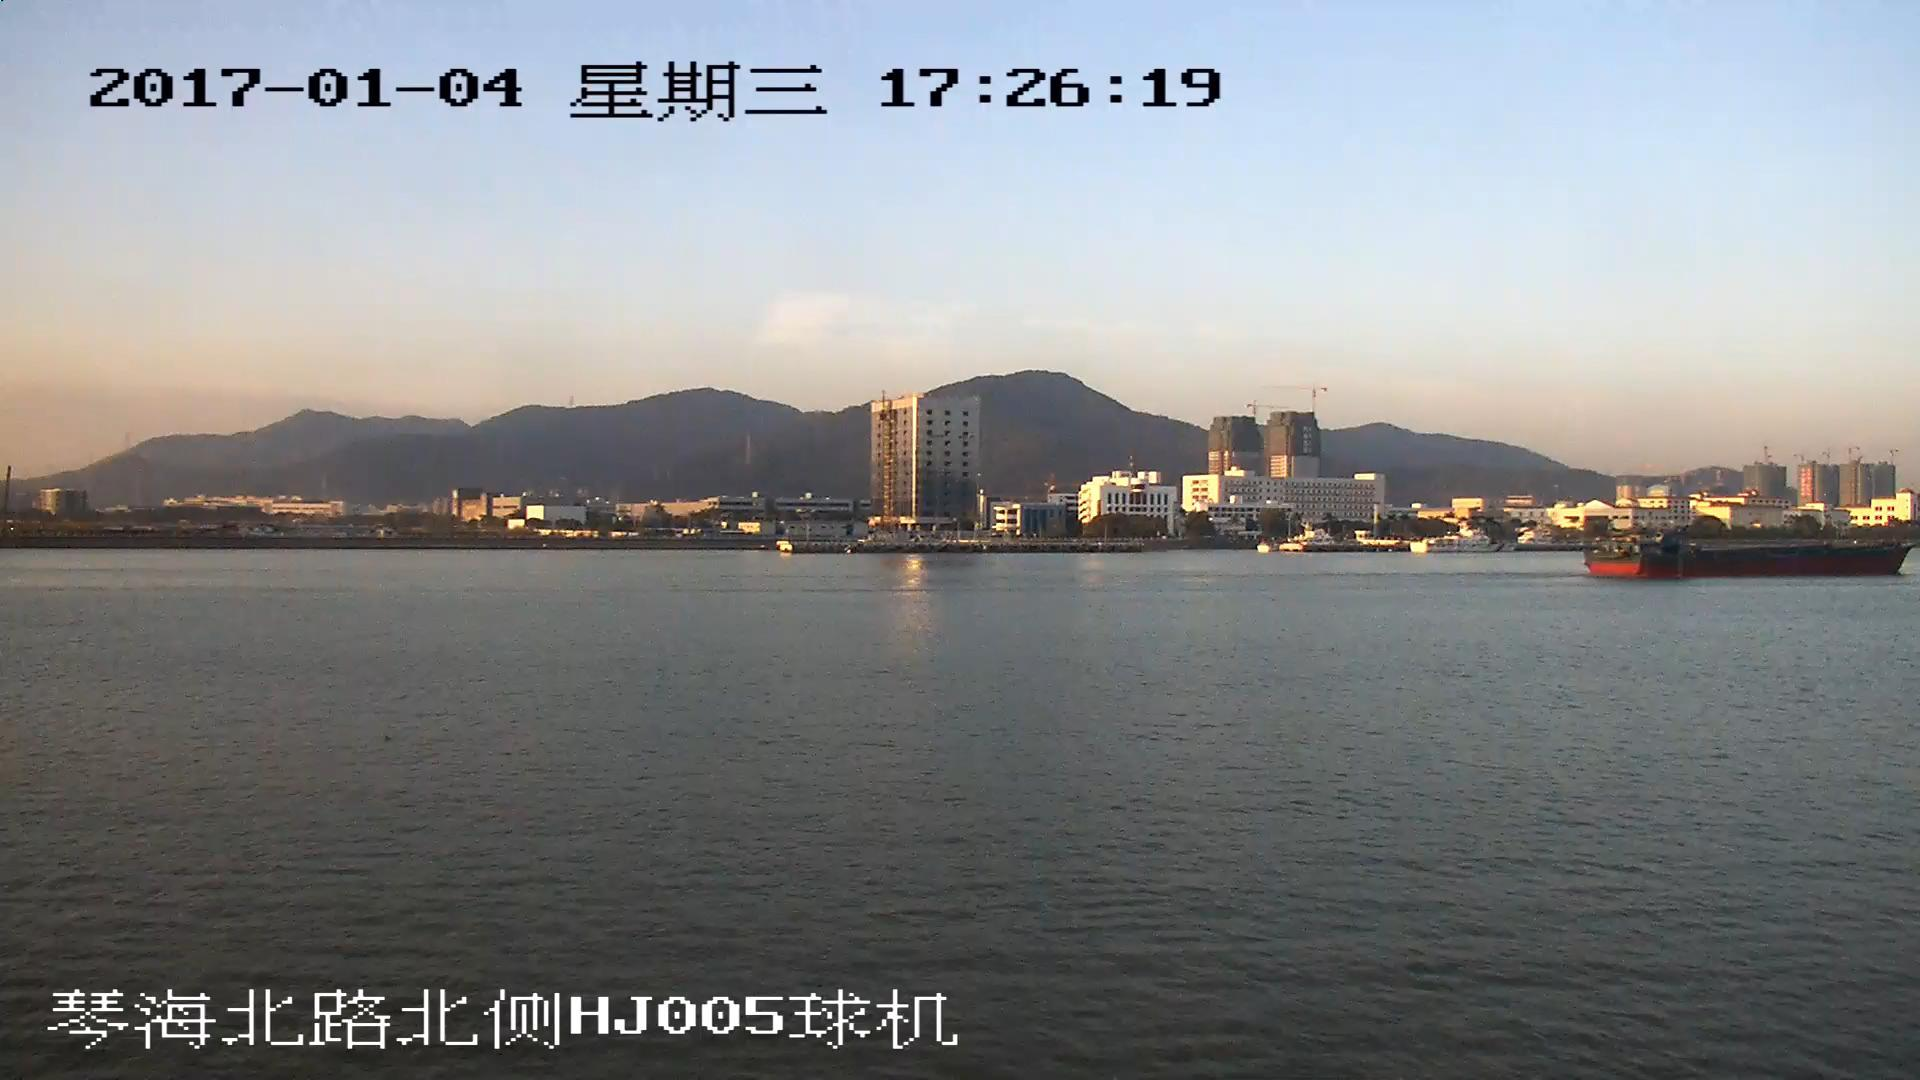Ship: (1589, 524, 1912, 584)
